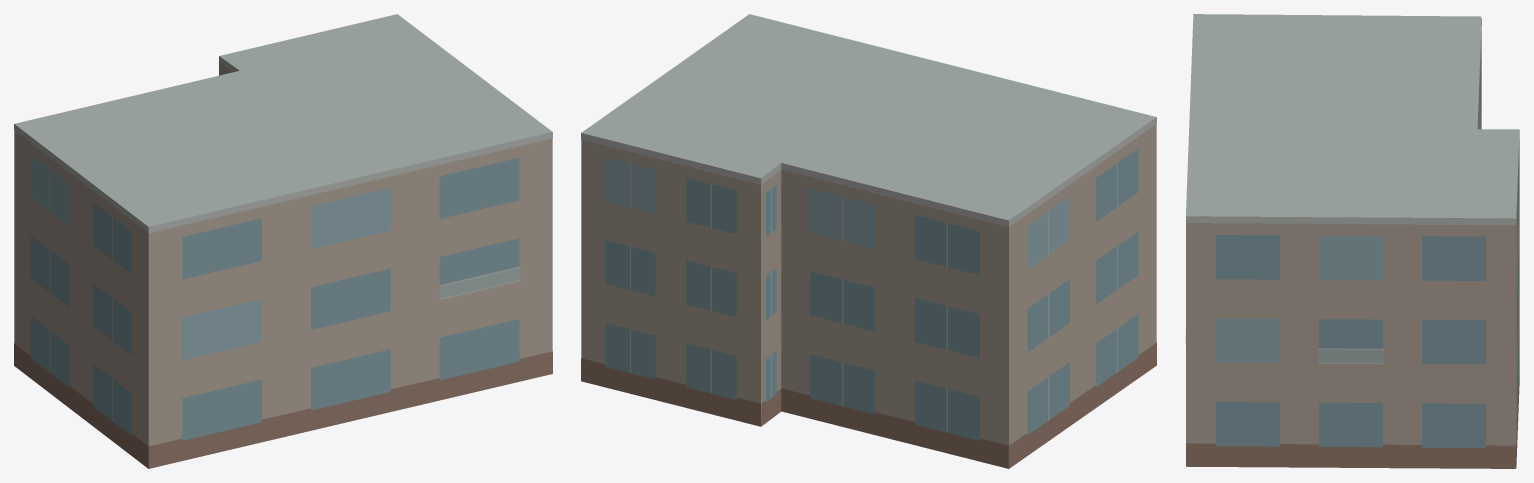
Rendered from survey-upis-32689396.glb.
The picture shows the model from 3 angles, left to right: view 1: azimuth 30°, elevation 25°; view 2: azimuth 150°, elevation 25°; view 3: azimuth 270°, elevation 25°; orthographic projection. The views are drawn at different scales.
Visible parts, largest first — view 1: survey-upis-32689396.tmp; view 2: survey-upis-32689396.tmp; view 3: survey-upis-32689396.tmp.
Part boxes in pixels (x1,y1,x2,y2): survey-upis-32689396.tmp: [14, 14, 552, 468]; survey-upis-32689396.tmp: [581, 14, 1156, 468]; survey-upis-32689396.tmp: [1185, 14, 1519, 468].
Size of the model in its own units: 16.03 by 9.15 by 11.08.
